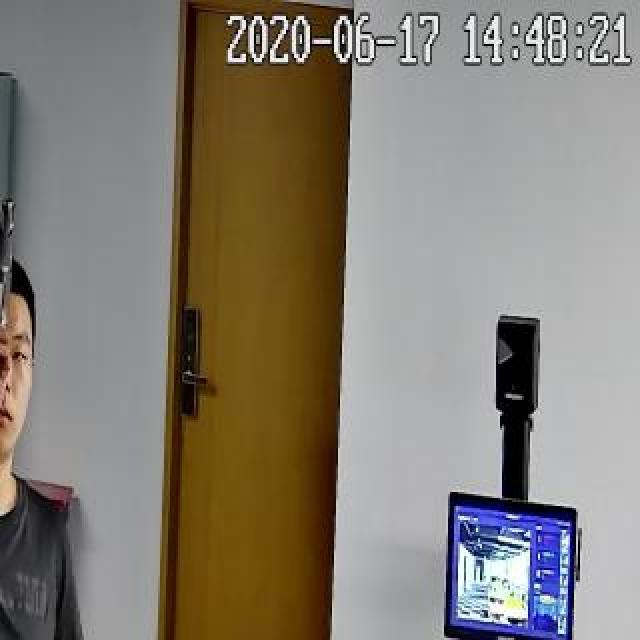Guns: (0, 176, 52, 350)
